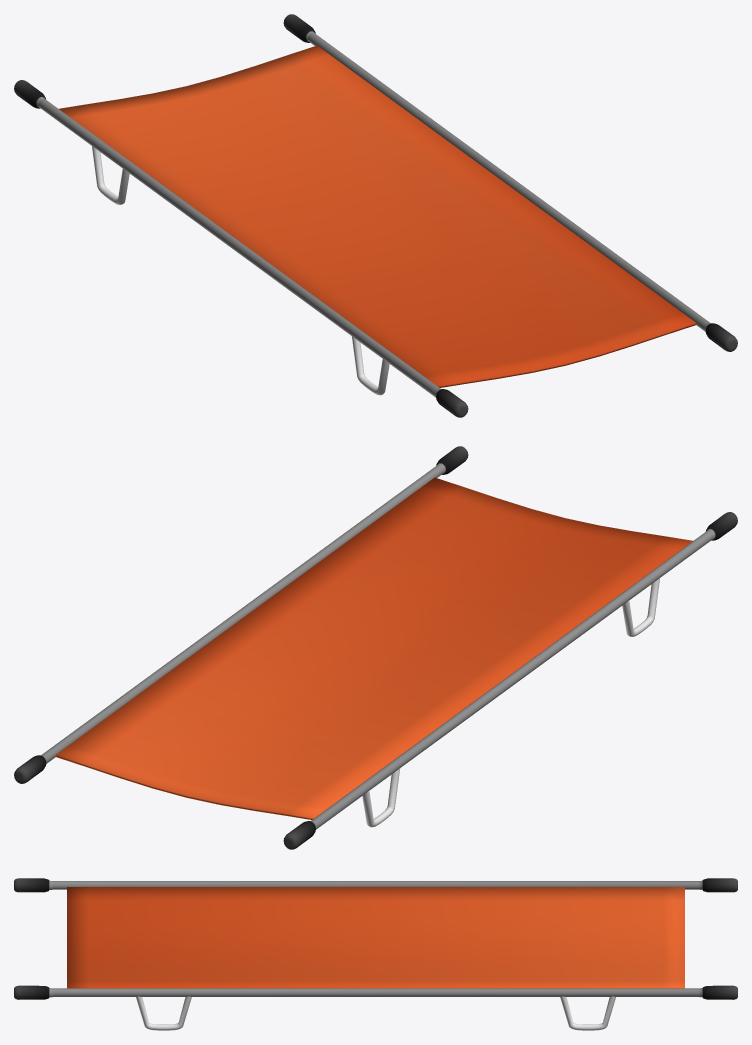
Rendered from stretcher.glb.
3 views of the same model, one above another, from view 1: azimuth 30°, elevation 25°; view 2: azimuth 150°, elevation 25°; view 3: azimuth 270°, elevation 25° (orthographic). The views are drawn at different scales.
Parts seen in each view (by area): view 1: stretcher; view 2: stretcher; view 3: stretcher.
Part boxes in pixels (bbox=[...]): stretcher: bbox=[14, 14, 737, 417]; stretcher: bbox=[14, 446, 737, 849]; stretcher: bbox=[14, 878, 737, 1030].
Size of what is drawn, in the model's own units: 0.952 by 0.1729 by 2.58.
Materials: 3 (2 with a texture image).
